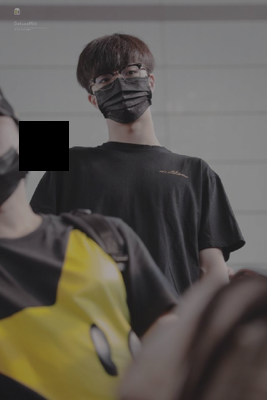with_mask: (93, 60, 153, 124)
